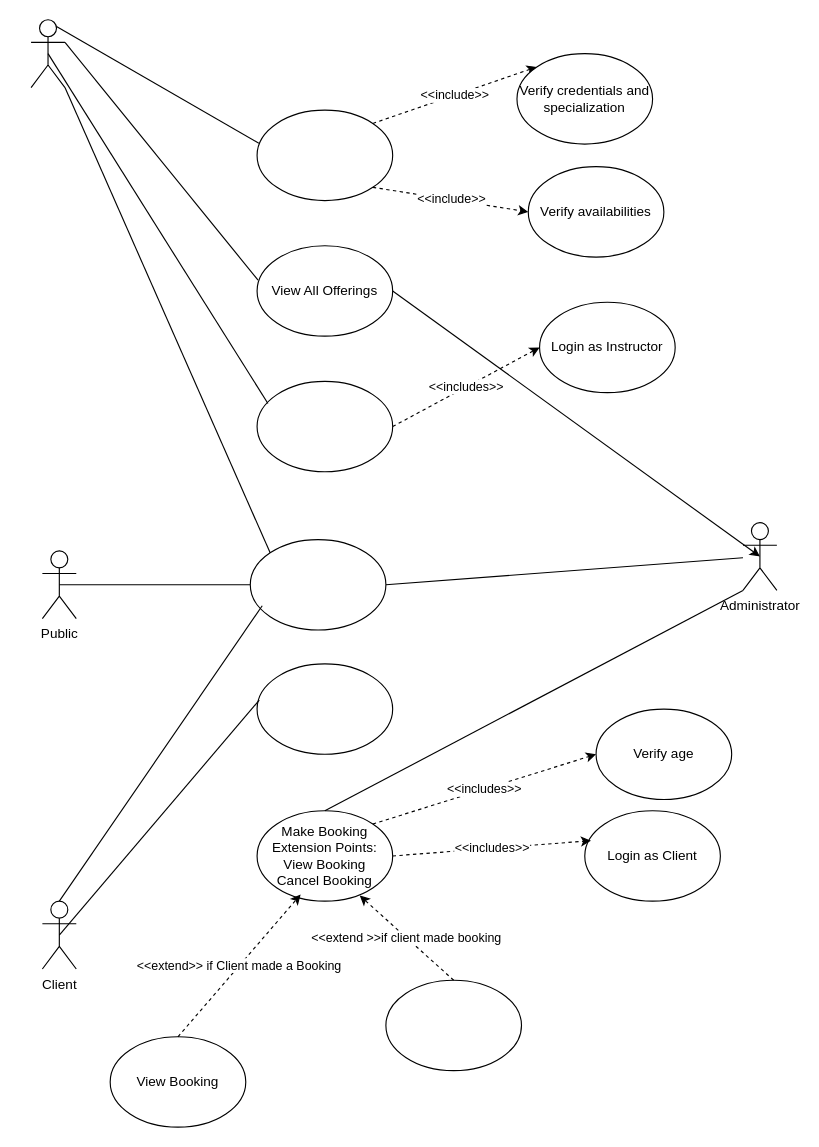
The diagram is 819 pixels wide and 1147 high, and some of its shapes have lost their labels. Here are the shapes that lost their labels. From the top down, the centre of each, then its label:
At (x=47, y=53): "Instructor".
At (x=324, y=155): "Register as Instructor".
At (x=324, y=426): "Take Offerings".
At (x=317, y=584): "View Taken Offerings".
At (x=324, y=708): "Register as Client".
At (x=453, y=1025): "Cancel Booking".
